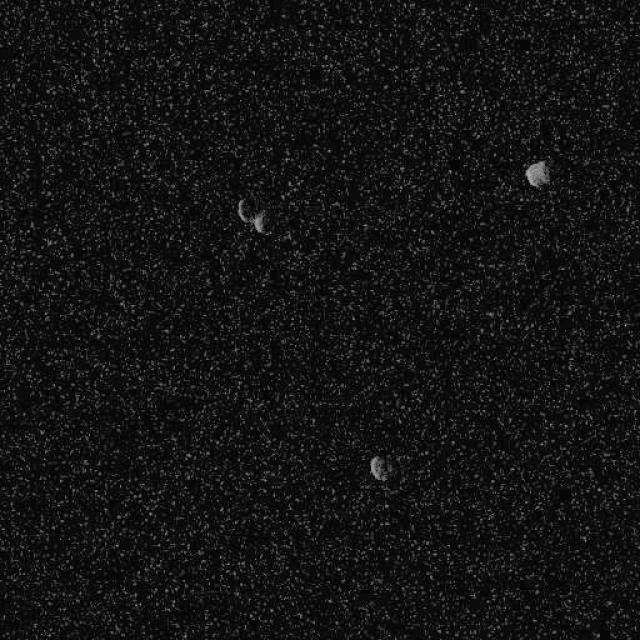D2: (235, 196, 267, 234), (368, 453, 398, 482), (524, 158, 550, 188)
